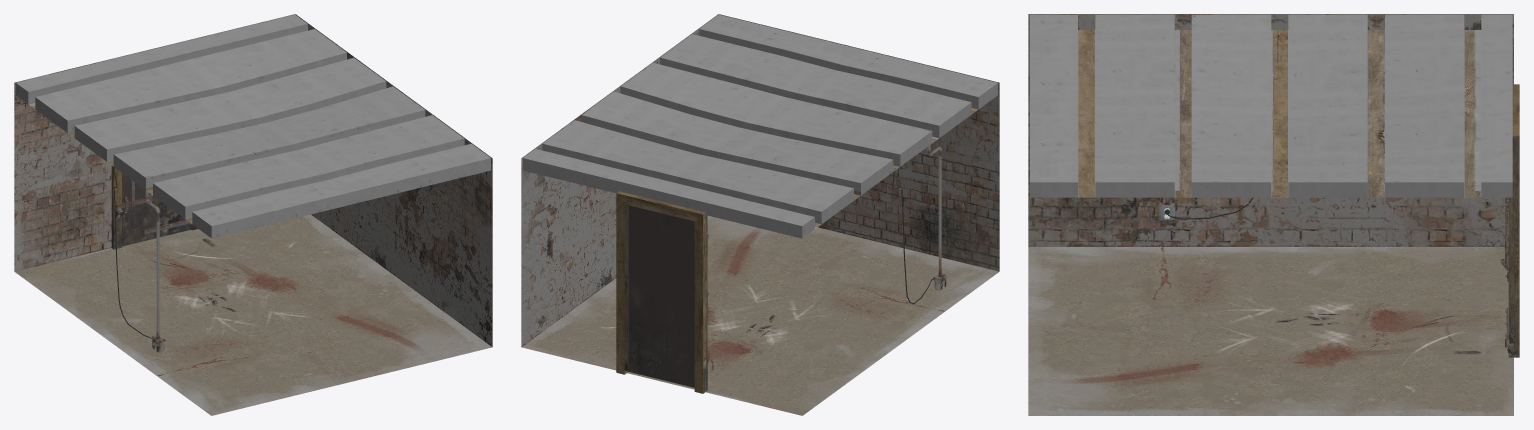
Rendered from the_room.glb.
3 views of the same model, side by side, from view 1: azimuth 30°, elevation 25°; view 2: azimuth 150°, elevation 25°; view 3: azimuth 270°, elevation 25° (orthographic). The views are drawn at different scales.
Visible parts, largest first — view 1: wallsAndFloor_cement_0, ceiling_insulation_0, theDoor:door_theDoor:iron_0, lampWithOutlet_lightAndCable:whitePlastic_0, theDoor:door_theDoor:wood_0, theDoor:rusted_iron_theDoor:doorBits_0; view 2: wallsAndFloor_cement_0, ceiling_insulation_0, theDoor:door_theDoor:iron_0, theDoor:door_theDoor:wood_0, lampWithOutlet_lightAndCable:whitePlastic_0; view 3: wallsAndFloor_cement_0, ceiling_insulation_0, theDoor:door_theDoor:wood_0, lampWithOutlet_lightAndCable:whitePlastic_0.
Boxes of the visible parts, <box> form: wallsAndFloor_cement_0: <box>14,14,492,415</box>; ceiling_insulation_0: <box>16,14,490,238</box>; theDoor:door_theDoor:iron_0: <box>122,173,191,246</box>; lampWithOutlet_lightAndCable:whitePlastic_0: <box>113,167,165,352</box>; theDoor:door_theDoor:wood_0: <box>111,166,197,249</box>; theDoor:rusted_iron_theDoor:doorBits_0: <box>115,180,190,234</box>; wallsAndFloor_cement_0: <box>521,14,999,415</box>; ceiling_insulation_0: <box>523,14,997,238</box>; theDoor:door_theDoor:iron_0: <box>628,205,694,387</box>; theDoor:door_theDoor:wood_0: <box>616,191,707,393</box>; lampWithOutlet_lightAndCable:whitePlastic_0: <box>892,130,946,304</box>; wallsAndFloor_cement_0: <box>1028,14,1513,415</box>; ceiling_insulation_0: <box>1030,14,1512,197</box>; theDoor:door_theDoor:wood_0: <box>1508,84,1519,357</box>; lampWithOutlet_lightAndCable:whitePlastic_0: <box>1159,14,1280,220</box>.
Bounding box in the file's own units: 491 × 316 × 602.
8 materials, 8 textured.
